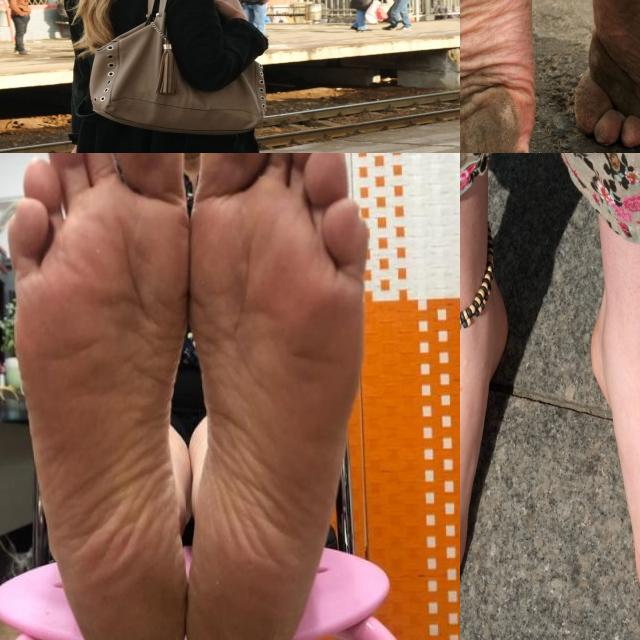Barefoots: (0, 153, 189, 640), (187, 153, 376, 640), (460, 272, 508, 640), (590, 294, 640, 640), (558, 0, 640, 152), (460, 0, 536, 153)
